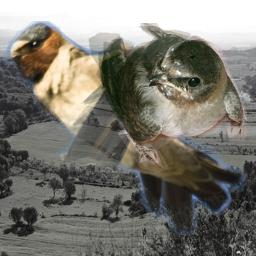Swallow: (3, 21, 246, 235), (79, 23, 247, 174)
